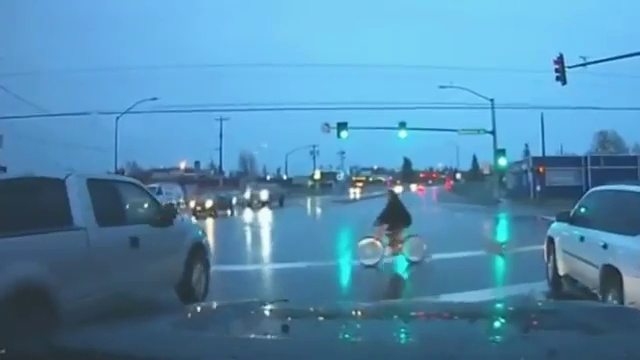cyclist_side: (356, 187, 428, 268)
